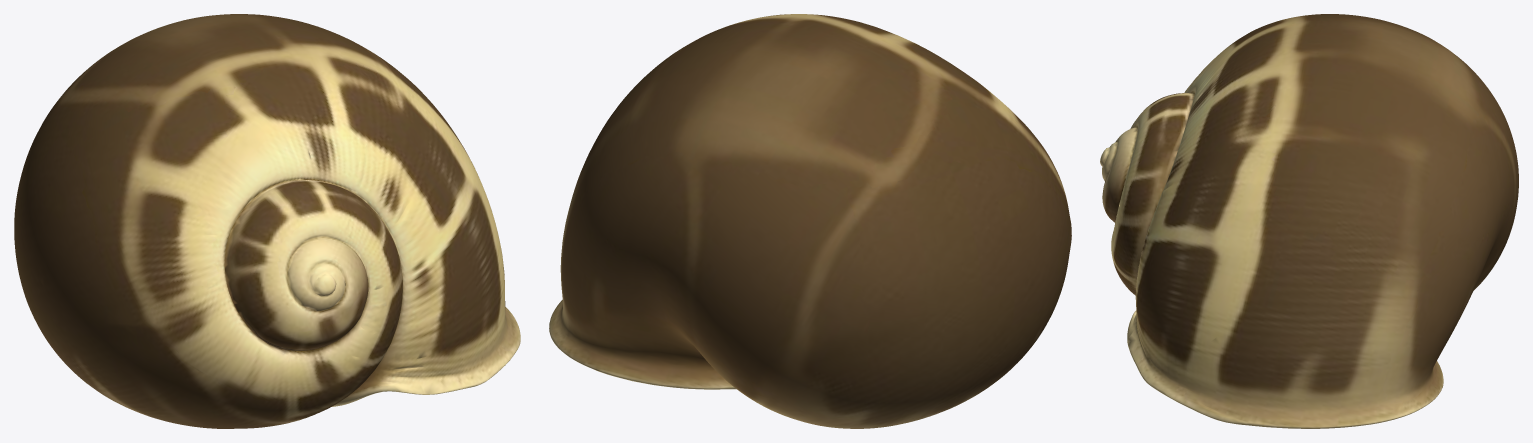
File: mystery.glb
The picture shows the model from 3 angles, left to right: view 1: azimuth 30°, elevation 25°; view 2: azimuth 150°, elevation 25°; view 3: azimuth 270°, elevation 25°; orthographic projection. The views are drawn at different scales.
Parts seen in each view (by area): view 1: node_0; view 2: node_0; view 3: node_0.
Part boxes in pixels (bbox=[...]): node_0: bbox=[14, 14, 520, 428]; node_0: bbox=[549, 14, 1071, 428]; node_0: bbox=[1100, 14, 1518, 428].
Bounding box in the file's own units: 1.03 × 0.7491 × 0.9153.
1 material, 1 textured.
